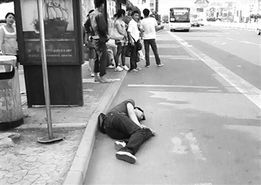fall: (93, 94, 158, 163)
